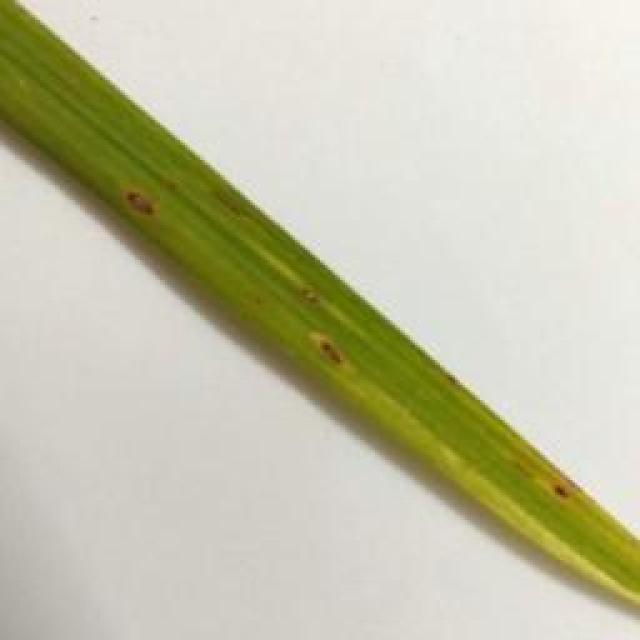Unhealthy: (348, 381, 640, 606), (310, 332, 351, 372), (120, 182, 160, 222), (211, 182, 246, 220), (546, 479, 574, 505), (300, 285, 320, 305)
